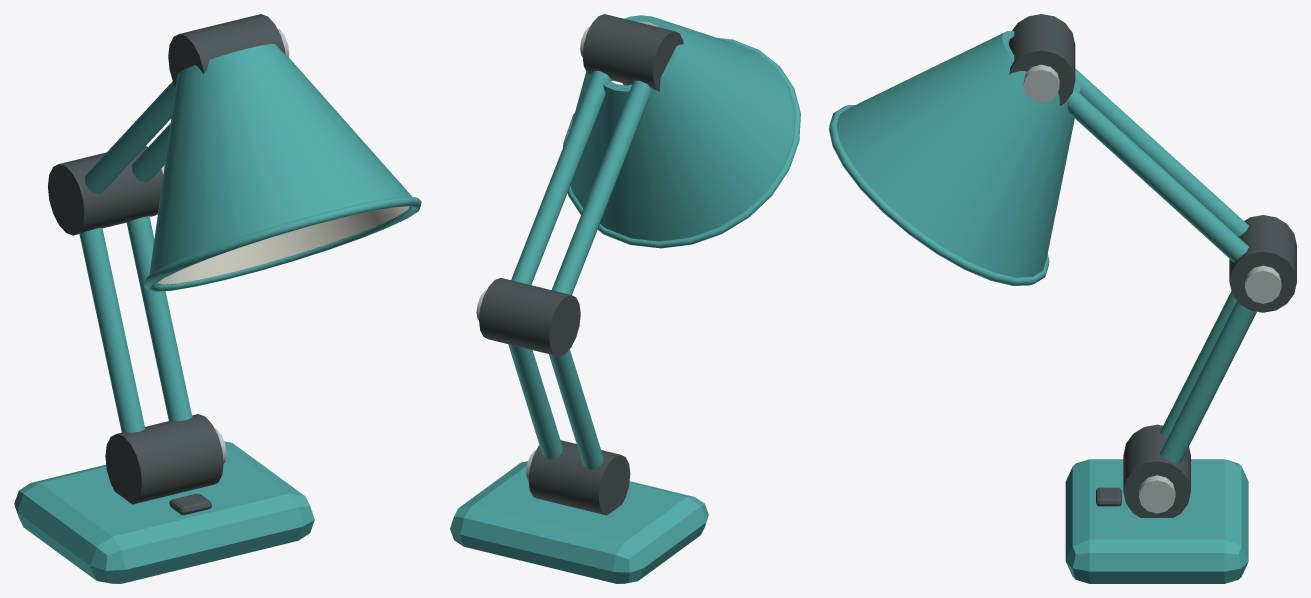
The model's file is lamp_articulated_desk.glb.
The picture shows the model from 3 angles, left to right: view 1: azimuth 30°, elevation 25°; view 2: azimuth 150°, elevation 25°; view 3: azimuth 270°, elevation 25°; orthographic projection. The views are drawn at different scales.
Visible parts, largest first — view 1: Desk_Lamp_Open_Shade, Desk_Lamp_Base, Desk_Lamp_Joint_0, Desk_Lamp_Joint_1, Desk_Lamp_Arm_-1_0, Desk_Lamp_Shade_Lip, Desk_Lamp_Arm_1_0, Desk_Lamp_Joint_2, Desk_Lamp_Arm_-1_1, Desk_Lamp_Arm_1_1, Desk_Lamp_Base_Switch; view 2: Desk_Lamp_Open_Shade, Desk_Lamp_Base, Desk_Lamp_Joint_1, Desk_Lamp_Joint_2, Desk_Lamp_Joint_0, Desk_Lamp_Arm_-1_1, Desk_Lamp_Arm_1_1, Desk_Lamp_Shade_Lip, Desk_Lamp_Arm_-1_0, Desk_Lamp_Arm_1_0; view 3: Desk_Lamp_Open_Shade, Desk_Lamp_Base, Desk_Lamp_Arm_1_1, Desk_Lamp_Joint_1, Desk_Lamp_Arm_1_0, Desk_Lamp_Joint_0, Desk_Lamp_Joint_2, Desk_Lamp_Arm_-1_1, Desk_Lamp_Shade_Lip, Desk_Lamp_Arm_-1_0, Desk_Lamp_Joint_Cap_0, Desk_Lamp_Joint_Cap_1 (+1 smaller).
Part boxes in pixels (x1,y1,x2,y2): Desk_Lamp_Open_Shade: (149, 43, 411, 285); Desk_Lamp_Base: (14, 441, 314, 583); Desk_Lamp_Joint_0: (105, 414, 223, 504); Desk_Lamp_Joint_1: (48, 146, 163, 235); Desk_Lamp_Arm_-1_0: (79, 227, 145, 432); Desk_Lamp_Shade_Lip: (144, 196, 421, 291); Desk_Lamp_Arm_1_0: (126, 216, 192, 421); Desk_Lamp_Joint_2: (168, 14, 285, 86); Desk_Lamp_Arm_-1_1: (85, 81, 175, 193); Desk_Lamp_Arm_1_1: (132, 123, 170, 182); Desk_Lamp_Base_Switch: (169, 493, 211, 515); Desk_Lamp_Open_Shade: (570, 15, 794, 241); Desk_Lamp_Base: (450, 461, 708, 583); Desk_Lamp_Joint_1: (479, 278, 580, 356); Desk_Lamp_Joint_2: (582, 14, 683, 91); Desk_Lamp_Joint_0: (528, 440, 630, 515); Desk_Lamp_Arm_-1_1: (552, 80, 650, 294); Desk_Lamp_Arm_1_1: (511, 70, 611, 284); Desk_Lamp_Shade_Lip: (563, 37, 800, 248); Desk_Lamp_Arm_-1_0: (549, 349, 603, 469); Desk_Lamp_Arm_1_0: (508, 344, 562, 459); Desk_Lamp_Open_Shade: (836, 30, 1080, 277); Desk_Lamp_Base: (1065, 459, 1248, 583); Desk_Lamp_Arm_1_1: (1067, 88, 1248, 262); Desk_Lamp_Joint_1: (1229, 215, 1296, 312); Desk_Lamp_Arm_1_0: (1160, 301, 1256, 463); Desk_Lamp_Joint_0: (1123, 424, 1190, 517); Desk_Lamp_Joint_2: (1008, 14, 1075, 105); Desk_Lamp_Arm_-1_1: (1075, 68, 1248, 236); Desk_Lamp_Shade_Lip: (829, 105, 1049, 285); Desk_Lamp_Arm_-1_0: (1160, 291, 1236, 438); Desk_Lamp_Joint_Cap_0: (1139, 475, 1175, 513); Desk_Lamp_Joint_Cap_1: (1245, 265, 1281, 303).
Size of the model in its own units: 0.278 by 0.585 by 0.4854.
